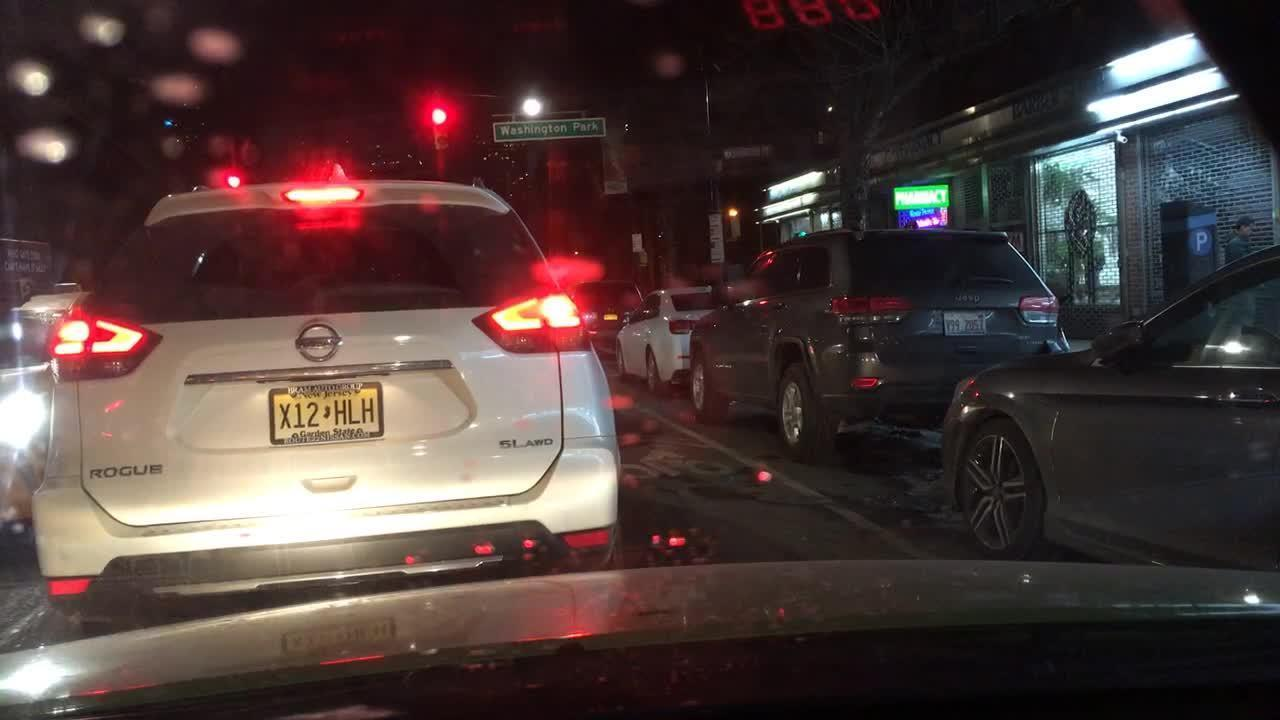Nissan: (290, 322, 345, 368)
jeep: (948, 287, 986, 309)
